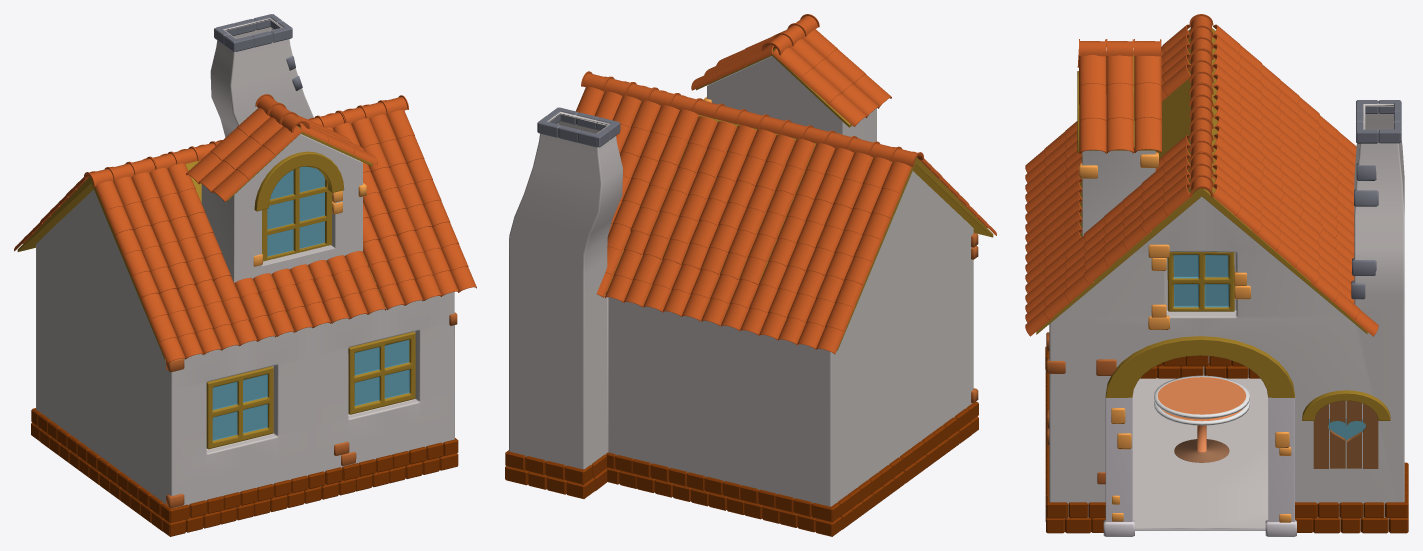
The model's file is Rumah.fbx.
The picture shows the model from 3 angles, left to right: view 1: azimuth 30°, elevation 25°; view 2: azimuth 150°, elevation 25°; view 3: azimuth 270°, elevation 25°; orthographic projection. The views are drawn at different scales.
Visible parts, largest first — view 1: Cylinder.001; view 2: Cylinder.001; view 3: Cylinder.001.
Boxes of the visible parts, x1=… form: Cylinder.001: x1=14, y1=14, x2=476, y2=536; Cylinder.001: x1=505, y1=14, x2=996, y2=536; Cylinder.001: x1=1025, y1=14, x2=1408, y2=536.
Bounding box in the file's own units: 352 × 395 × 331.
